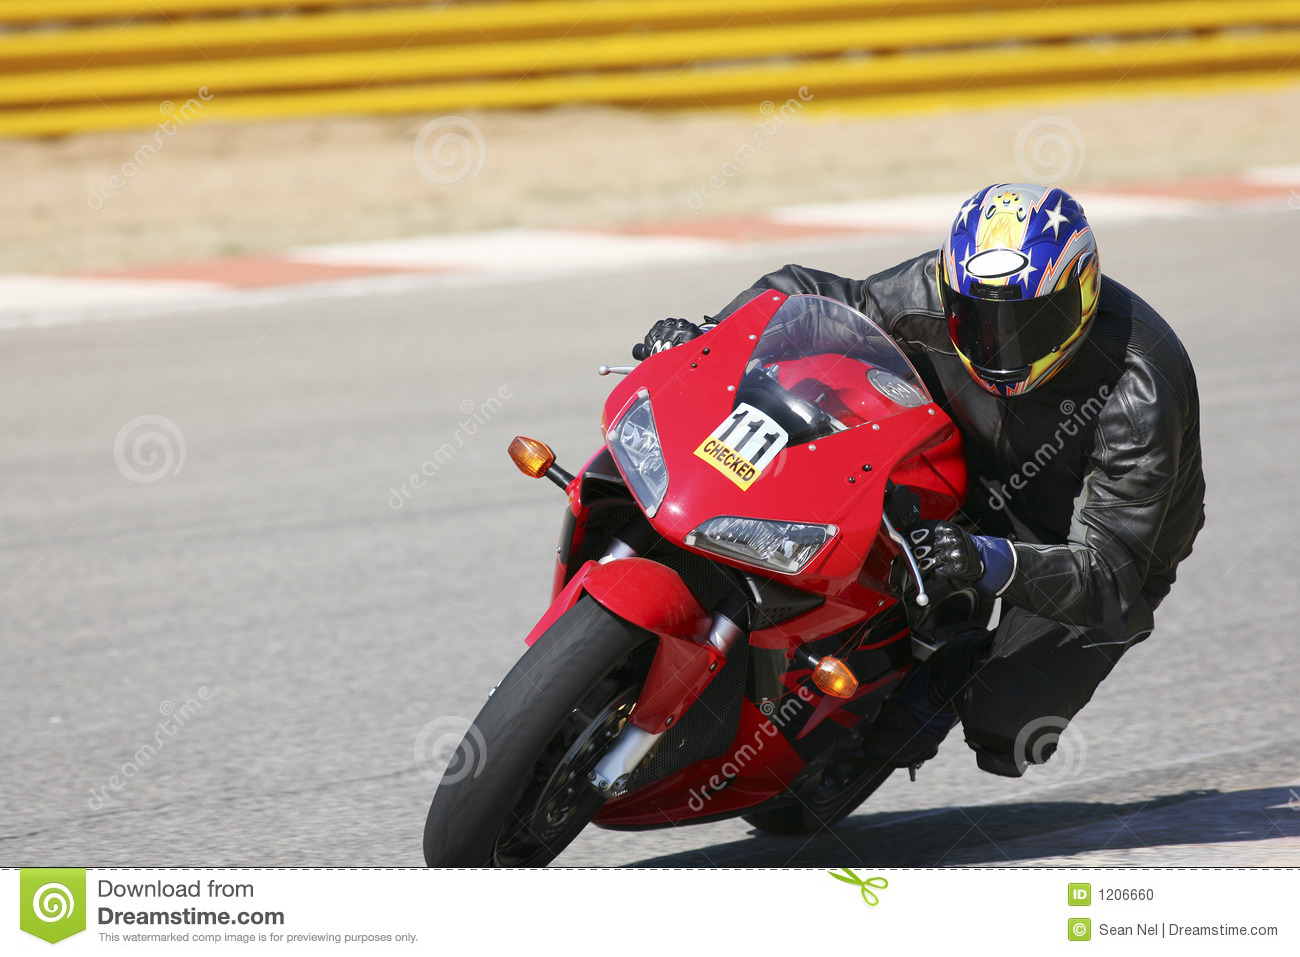helmet: (940, 180, 1104, 377)
